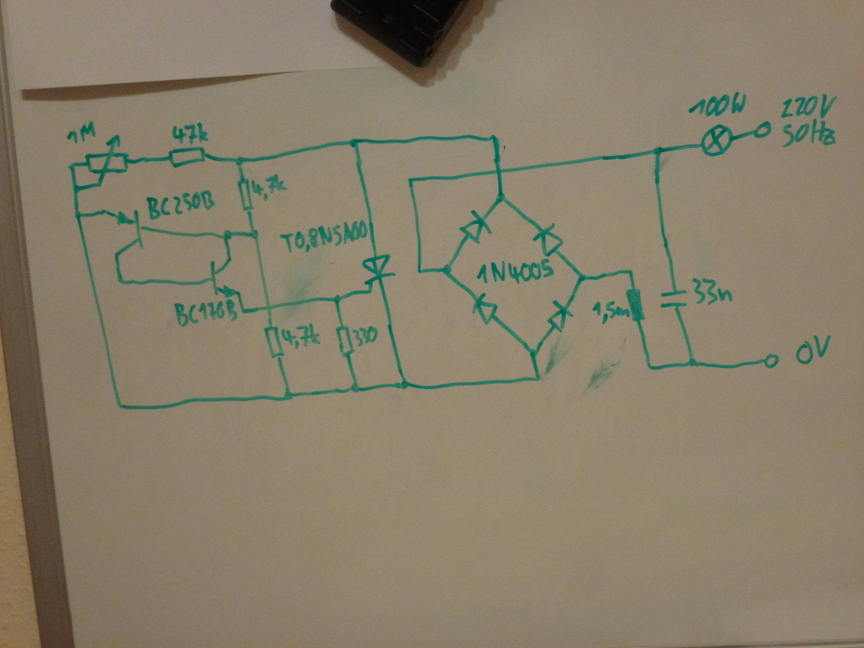capacitor.unpolarized: (657, 285, 690, 315)
crossover: (490, 164, 509, 180), (261, 301, 277, 314)
diode: (456, 208, 494, 245), (530, 221, 568, 258), (544, 296, 576, 336), (467, 292, 501, 327)
inductor: (624, 284, 648, 327)
junction: (647, 143, 670, 161), (392, 376, 413, 392), (344, 134, 363, 150), (492, 190, 511, 205), (345, 380, 365, 394), (571, 271, 589, 286), (278, 388, 296, 403), (245, 226, 263, 241), (218, 226, 234, 242), (438, 261, 455, 276), (486, 131, 505, 144), (114, 274, 130, 289), (685, 355, 700, 370), (523, 346, 541, 358), (232, 152, 246, 167), (623, 265, 639, 278), (330, 292, 343, 306), (72, 209, 87, 221), (68, 183, 84, 194), (532, 372, 544, 386), (412, 265, 426, 277), (643, 360, 655, 373), (113, 401, 127, 412), (405, 175, 417, 186), (66, 160, 77, 171), (238, 306, 249, 316)
lamp: (699, 122, 737, 160)
resistor: (162, 145, 213, 171), (260, 322, 288, 363), (235, 175, 257, 215), (333, 321, 355, 361)
resistor.adjustable: (83, 133, 135, 190)
terminal: (758, 350, 786, 372), (751, 118, 775, 142)
text: (278, 219, 368, 254), (144, 188, 215, 222), (475, 258, 557, 286), (779, 119, 839, 152), (172, 298, 239, 327), (684, 91, 750, 119), (690, 275, 738, 309), (779, 92, 841, 118), (791, 332, 836, 366), (280, 323, 324, 350), (589, 298, 630, 326), (169, 120, 211, 146), (251, 174, 289, 201), (63, 119, 99, 145), (353, 324, 380, 348)
thyristor: (357, 252, 401, 299)
transistor: (101, 204, 147, 258), (203, 254, 247, 299)
